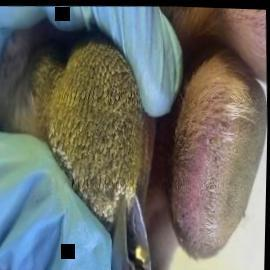keratosis: (27, 32, 152, 230)
